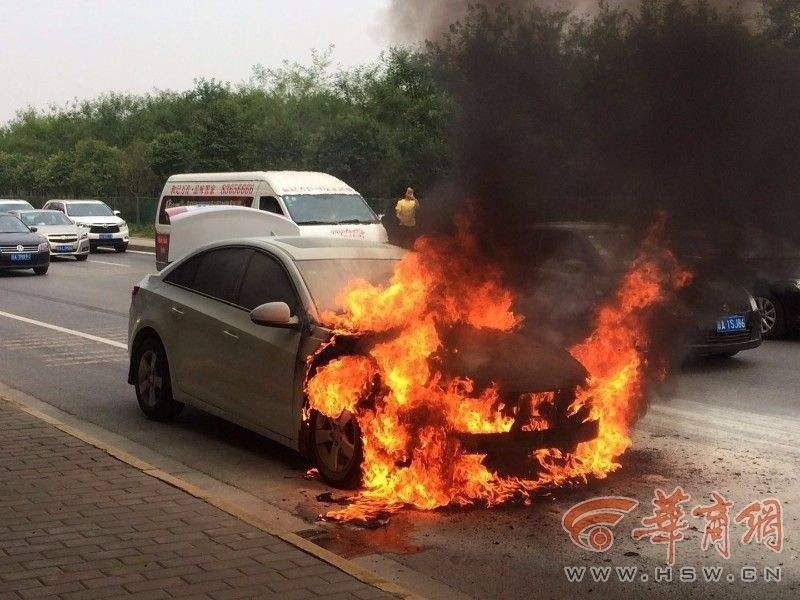fire: (291, 204, 653, 515)
